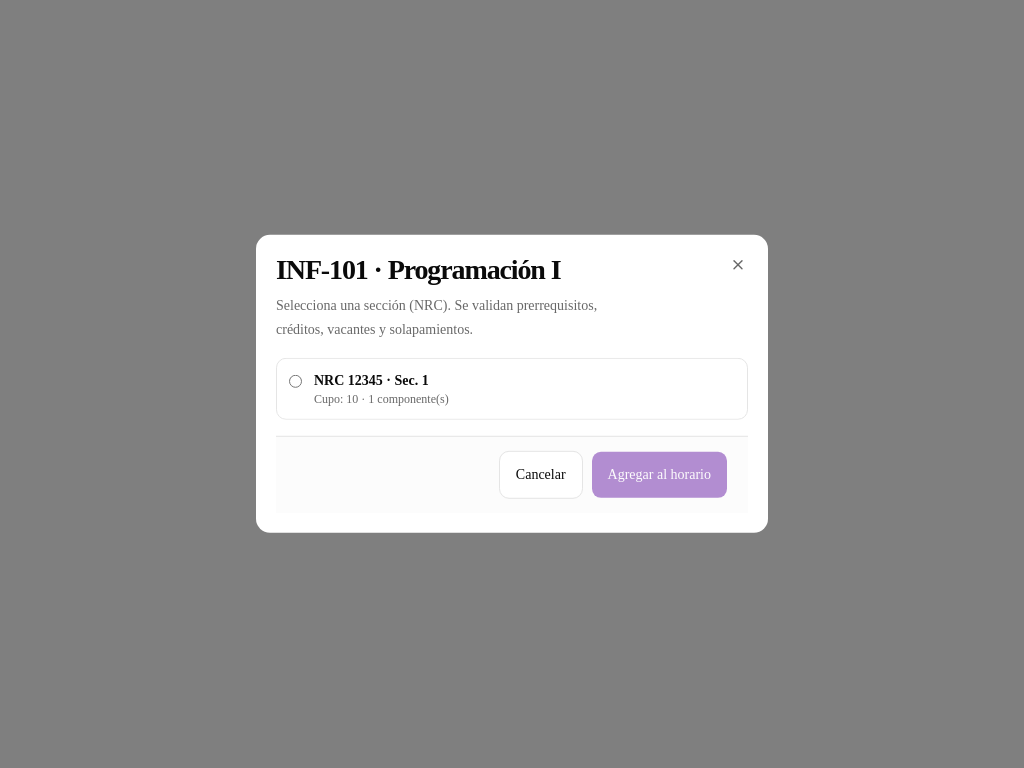
Test: AddStudentCourseDialog › muestra conflictos detectados y no permite agregar
What coordinates should you click on to do the following:
click the radio button
I would click on:
 (296, 382)
Its box is [289, 375, 302, 388].
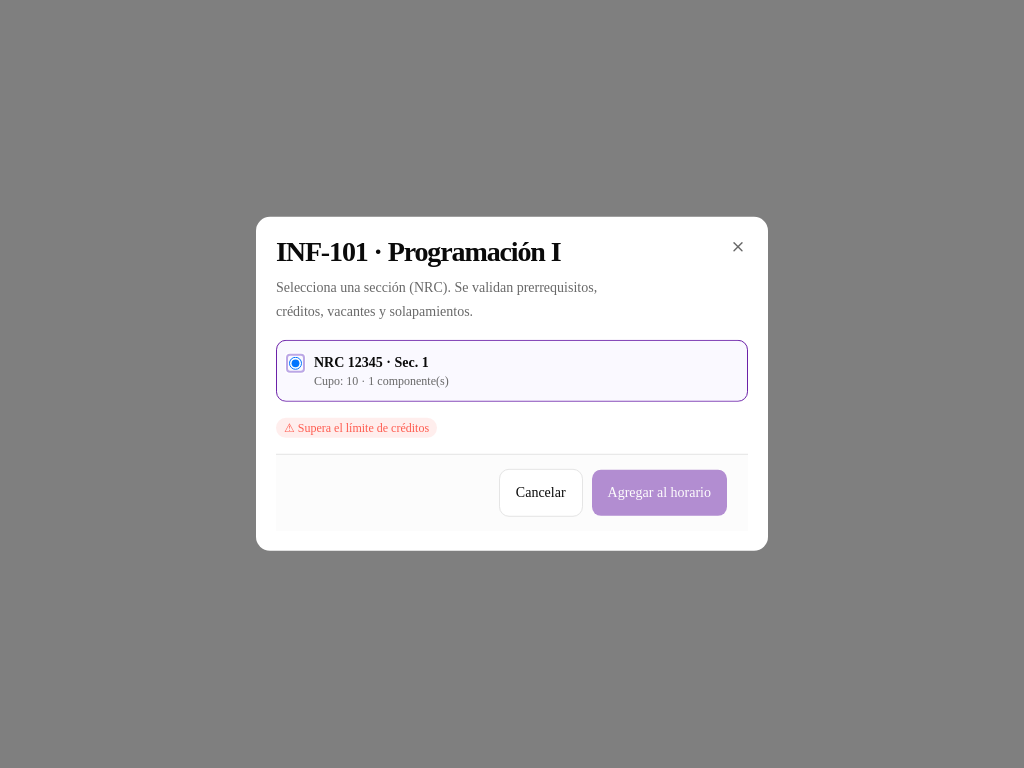
Check: the button "Agregar al horario" is disabled, box [591, 469, 728, 517]
Check: the text "⚠ Supera el límite de créditos" is shown, box [276, 418, 437, 438]
